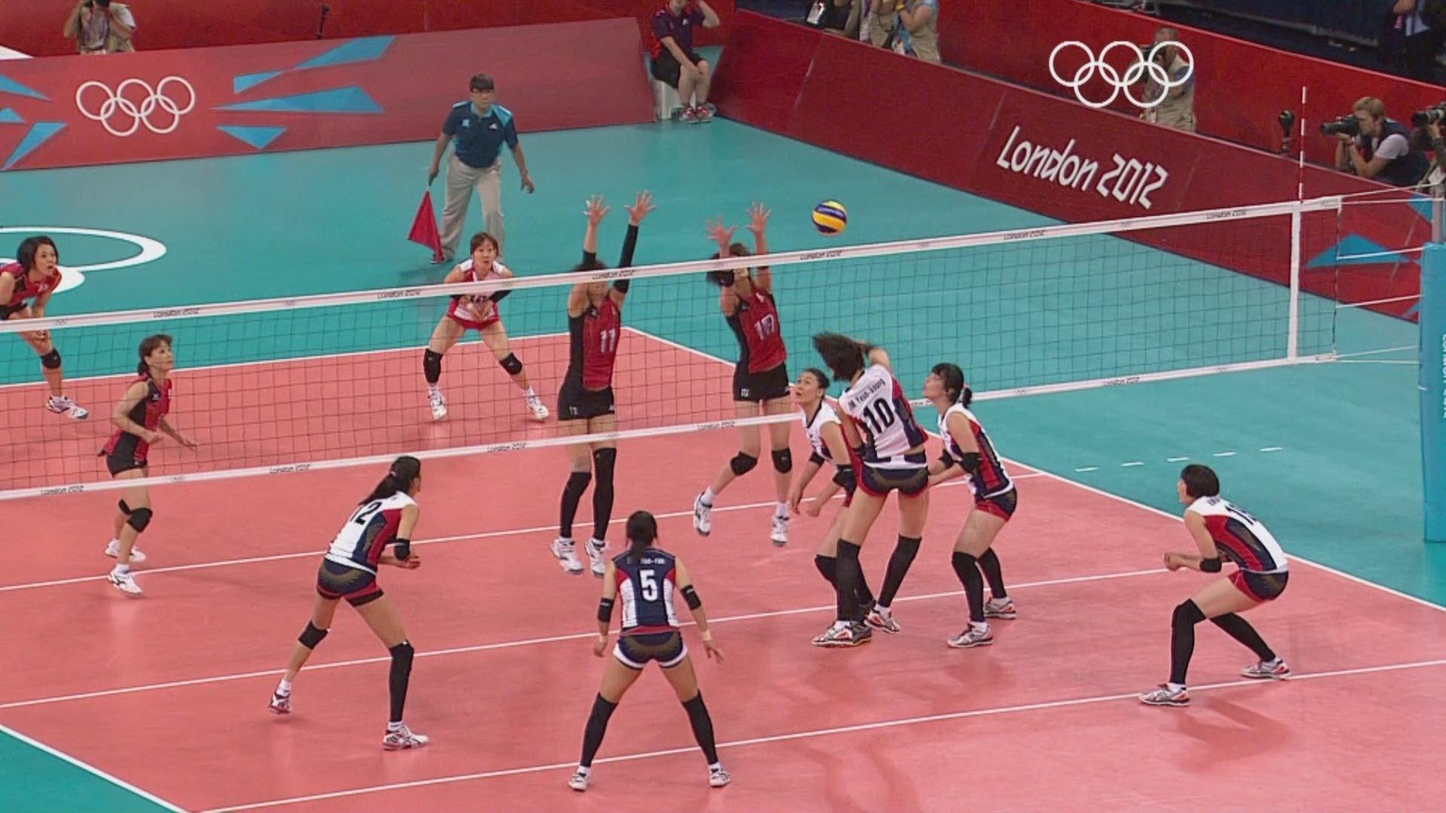ballon_volley: (810, 198, 847, 237)
